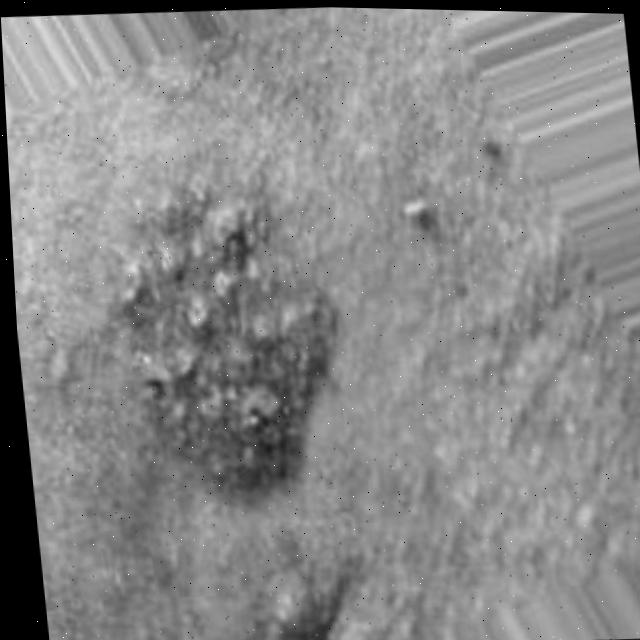Shingles: (108, 187, 355, 499)
